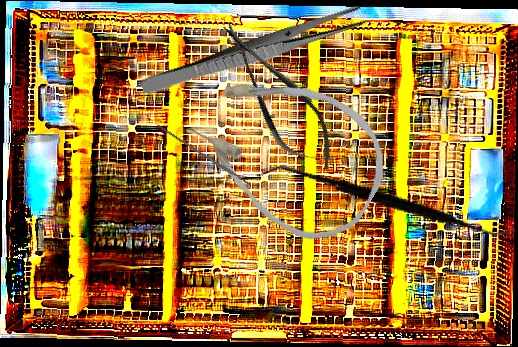Cannula: (169, 41, 407, 260)
Dressing Forceps: (139, 2, 367, 103)
Micro Scissor: (205, 7, 351, 185)
Scalpel Handle: (155, 122, 252, 188)
Spatula Surgical: (260, 107, 517, 299)
